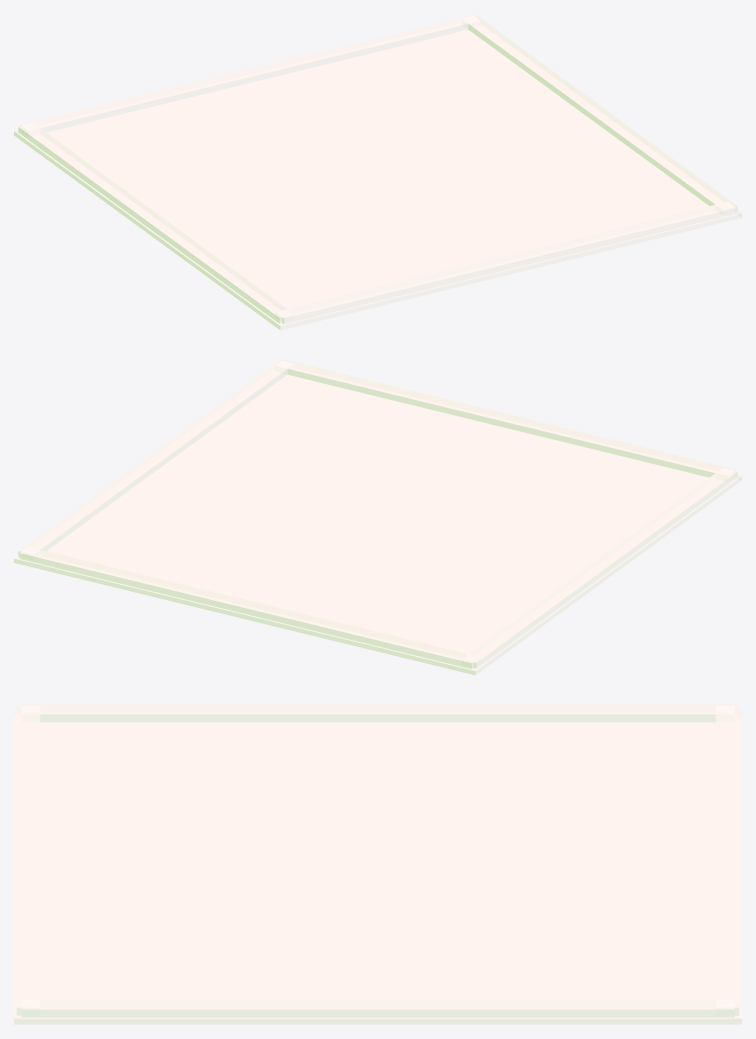
The model's file is marcador_colocacion.glb.
3 renders of one model, top to bottom at view 1: azimuth 30°, elevation 25°; view 2: azimuth 150°, elevation 25°; view 3: azimuth 270°, elevation 25°, orthographic. The views are drawn at different scales.
Parts seen in each view (by area): view 1: marca_ok, marca_no; view 2: marca_ok, marca_no; view 3: marca_ok, marca_no.
Boxes of the visible parts, x1,y1,x2,y2 form: marca_ok: [14, 14, 741, 330]; marca_no: [14, 15, 741, 329]; marca_ok: [14, 359, 741, 675]; marca_no: [14, 360, 741, 674]; marca_ok: [14, 704, 741, 1024]; marca_no: [14, 704, 741, 1024].
Bounding box in the file's own units: 2 × 0.0425 × 2.
